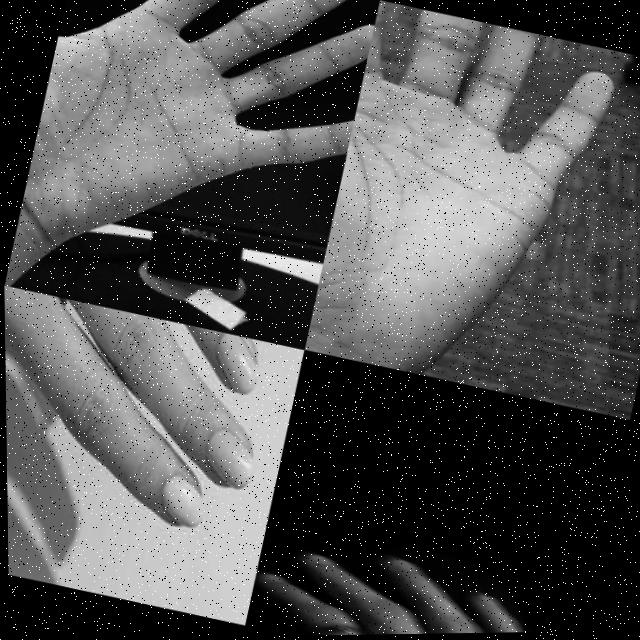hand: (299, 0, 627, 407), (14, 0, 382, 292), (3, 282, 282, 623), (241, 523, 589, 637)
